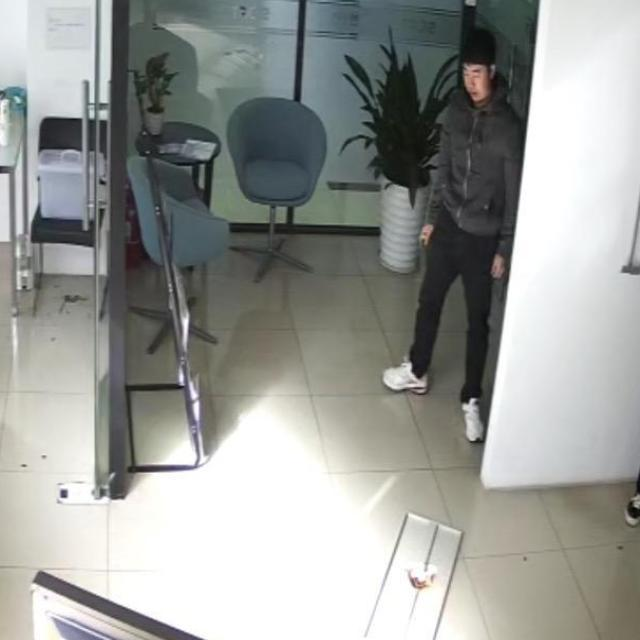smoke: (398, 554, 443, 597)
